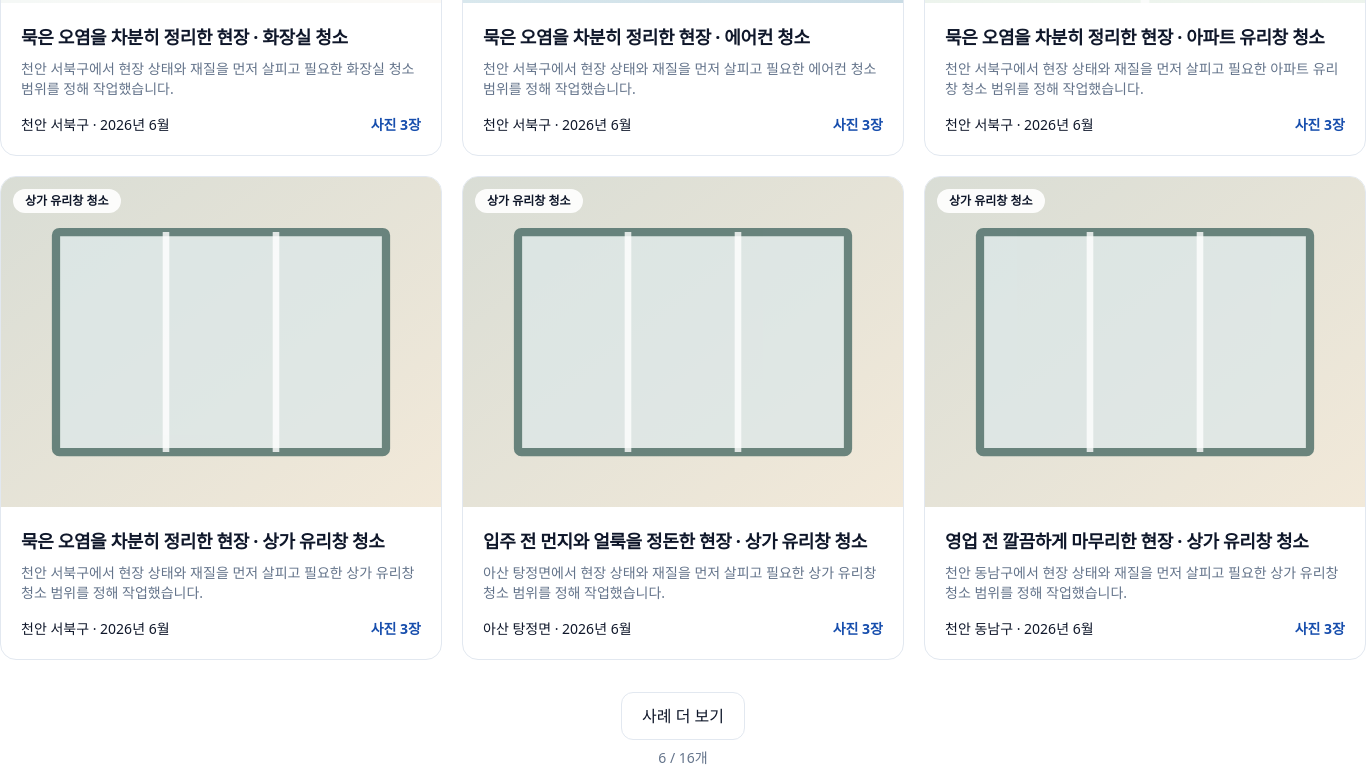
Test case: public browsing › shows only public cases and appends the next stable group
(page scrolled)
Click the button "사례 더 보기": (683, 716) [621,692,745,740]
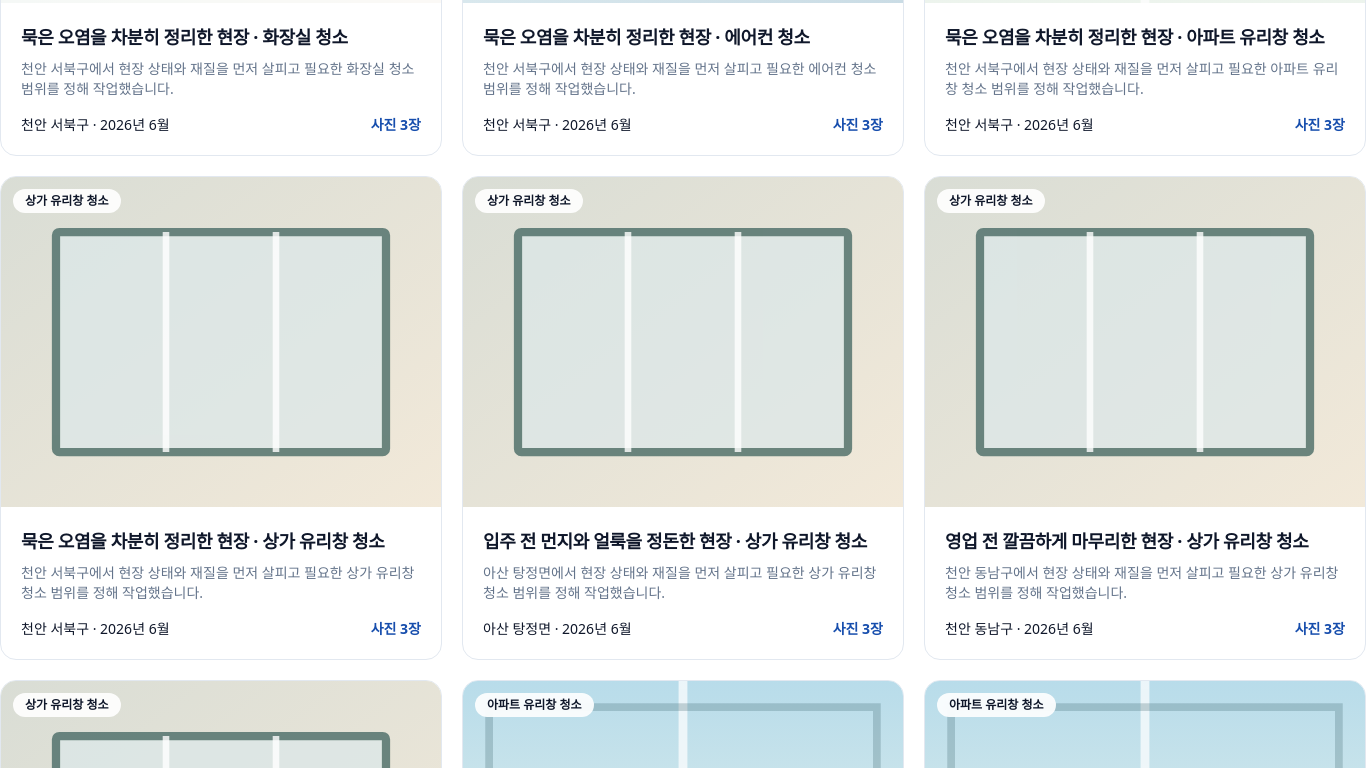
Expected: the number of elements with test id "portfolio-card" is 12
